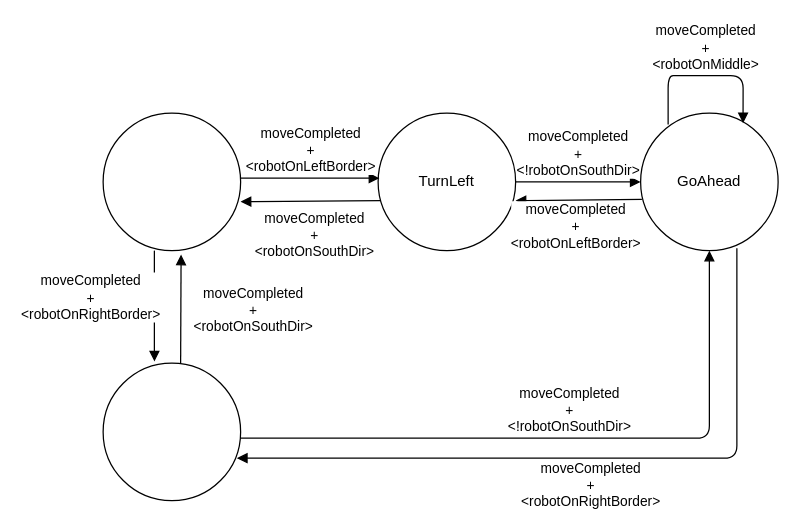
This 800x531 diagram has some shape labels left out. Each missing label, with the centre of its shape:
Forward: (x=171, y=181)
TurnRight: (x=171, y=431)
